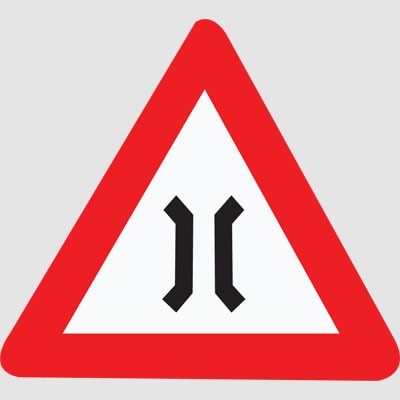narrow-road: (146, 182, 256, 326)
